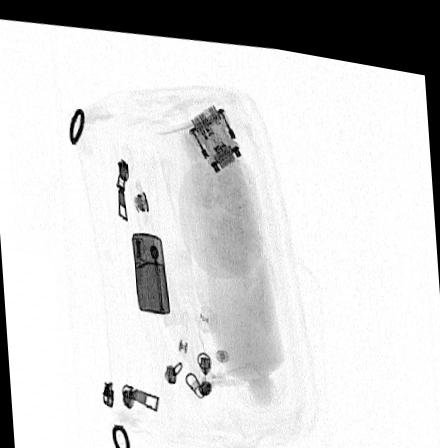Lighter: (131, 227, 169, 308)
